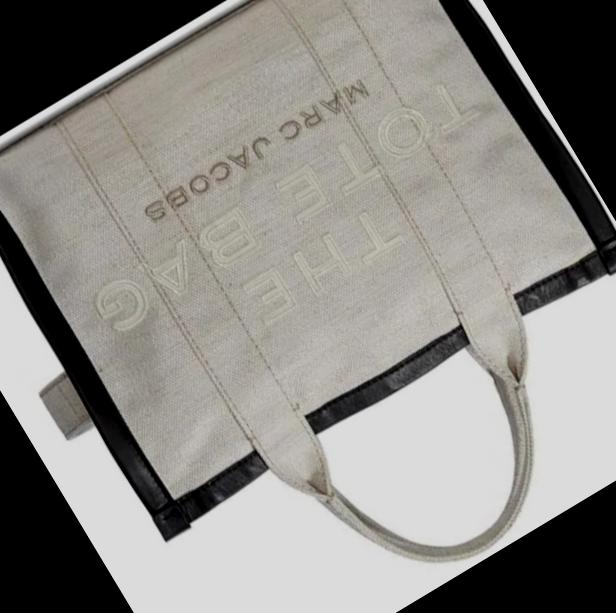MARC-JACOBS: (140, 76, 370, 226)
